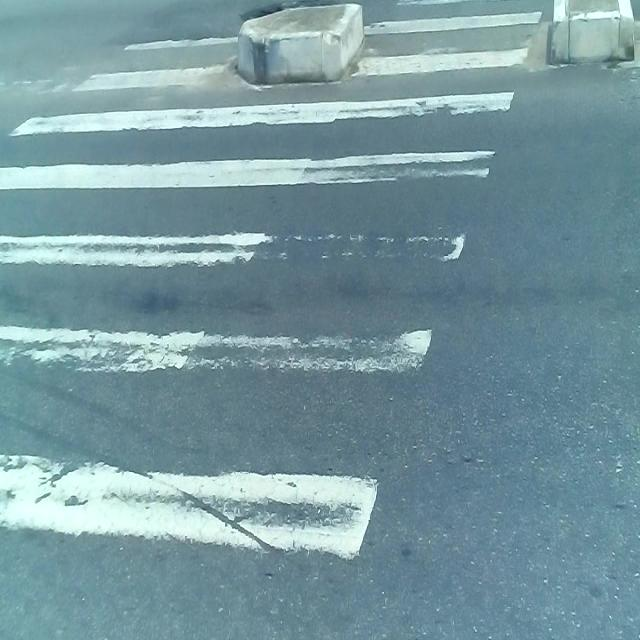crosswalk: (0, 0, 551, 640)
